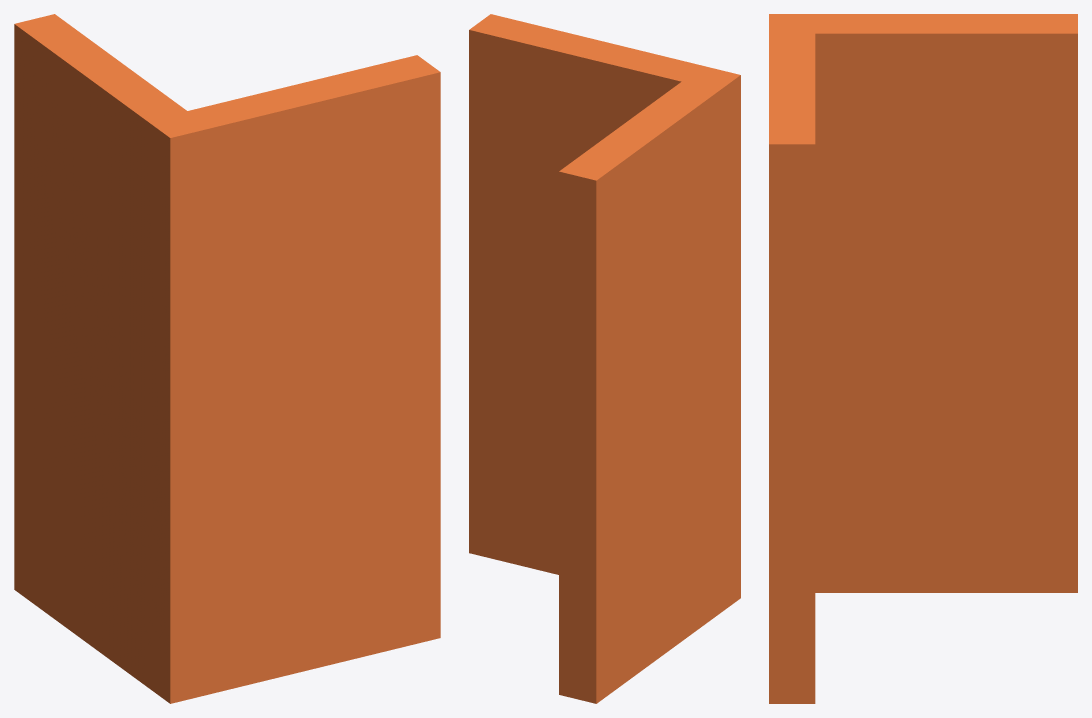
Rendered from OrangeCorner.glb.
The picture shows the model from 3 angles, left to right: view 1: azimuth 30°, elevation 25°; view 2: azimuth 150°, elevation 25°; view 3: azimuth 270°, elevation 25°; orthographic projection. The views are drawn at different scales.
Parts seen in each view (by area): view 1: wall_plain_corner_orange; view 2: wall_plain_corner_orange; view 3: wall_plain_corner_orange.
Boxes of the visible parts, box(x1,y1,x2,y2) form: wall_plain_corner_orange: box(14, 14, 440, 703); wall_plain_corner_orange: box(469, 14, 740, 703); wall_plain_corner_orange: box(769, 14, 1077, 703).
Size of what is drawn, in the model's own units: 2 by 4 by 2.
1 material, 1 textured.
